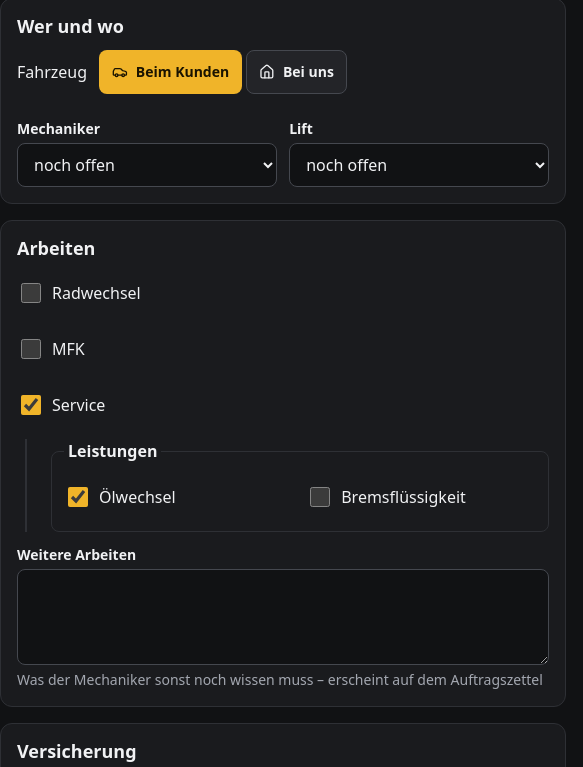
Test case: AppointmentStep – Service › unticking "Service" hides the items and forgets them
(page scrolled)
What coordinates should you click on to do the following:
click the checkbox labelled "Service"
I would click on:
 (31, 405)
Its box is top-left (21, 395), bottom-right (41, 415).
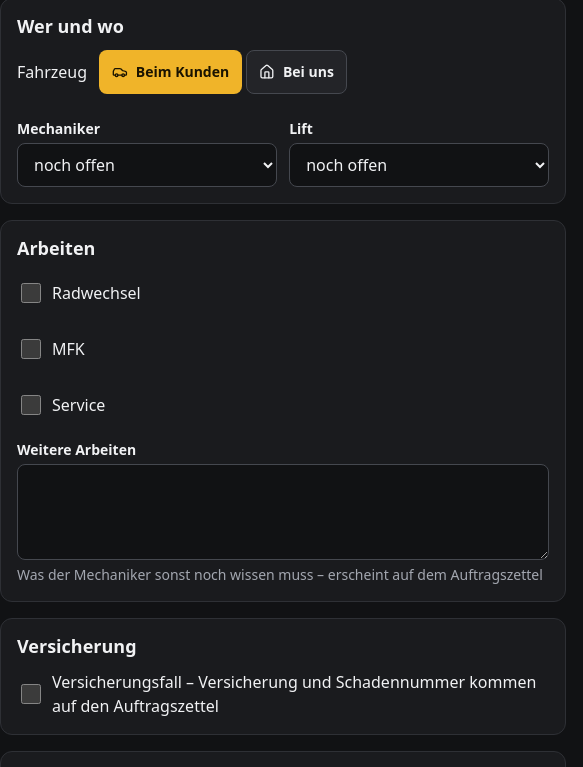
Check: the text "Ölwechsel" is gone
